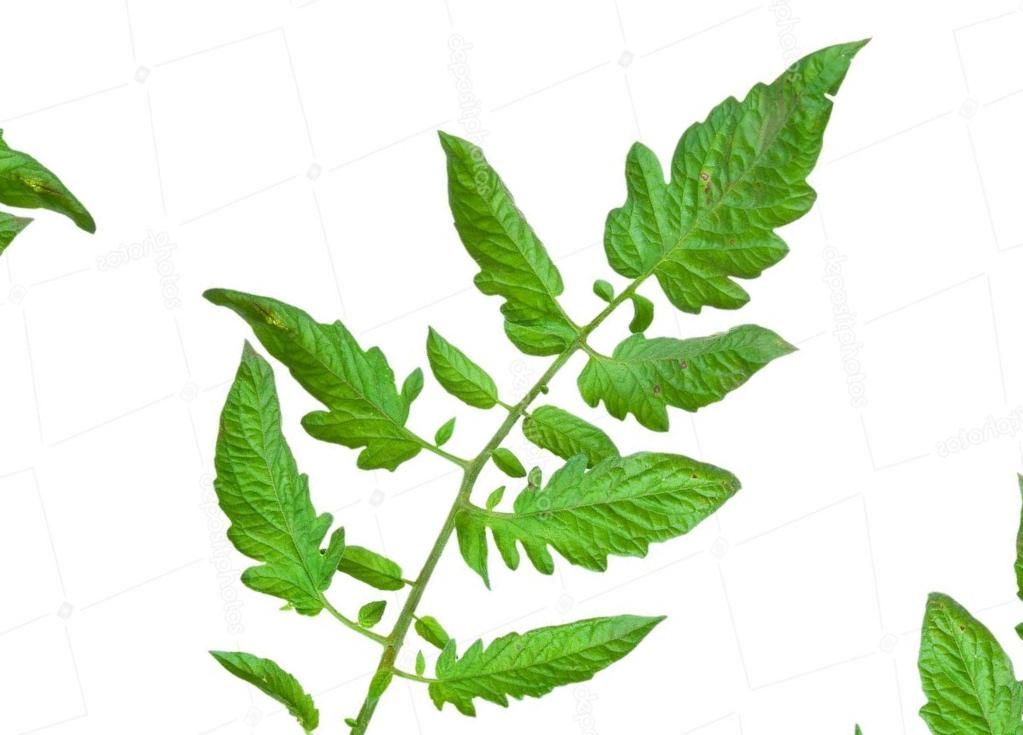Tomato leaf: (563, 0, 909, 354), (440, 353, 760, 669), (137, 343, 432, 633), (161, 255, 462, 484), (392, 510, 675, 735), (373, 110, 635, 351), (549, 242, 796, 485)
